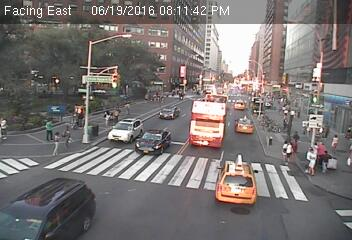neg: (81, 171, 110, 209), (190, 120, 210, 147), (179, 61, 199, 87), (201, 186, 221, 212), (127, 63, 146, 89), (136, 113, 154, 137), (275, 73, 291, 95), (232, 198, 248, 220), (96, 69, 112, 90), (235, 161, 250, 181), (278, 187, 293, 206), (237, 118, 251, 137), (248, 88, 261, 105), (142, 186, 154, 201)
pos: (301, 145, 320, 170), (279, 139, 297, 164), (47, 132, 65, 155), (318, 149, 335, 171), (327, 127, 343, 147), (44, 117, 58, 135), (62, 122, 76, 140), (290, 129, 304, 147)
